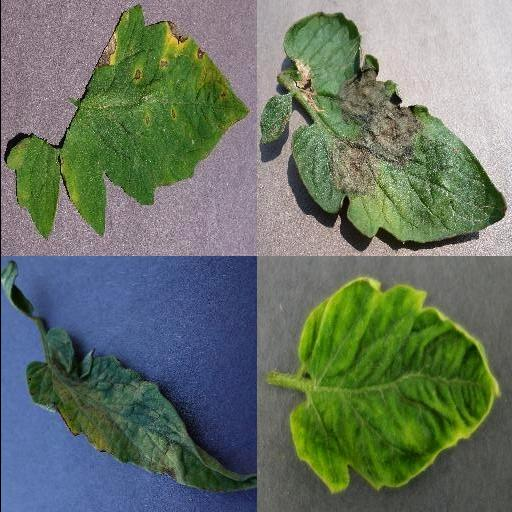Late Blight: (283, 11, 507, 245)
Leaf Mold: (25, 329, 256, 493)
Septoria: (60, 5, 250, 238)
Yellow Leaf Curl Virus: (288, 278, 498, 492)
